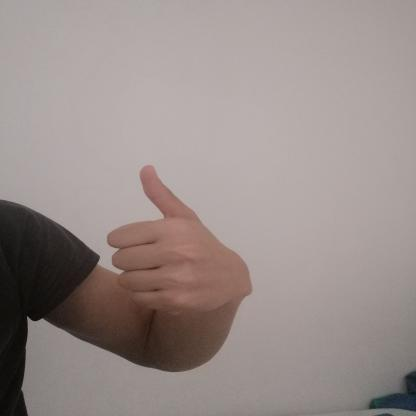ALIF: (88, 149, 262, 326)
